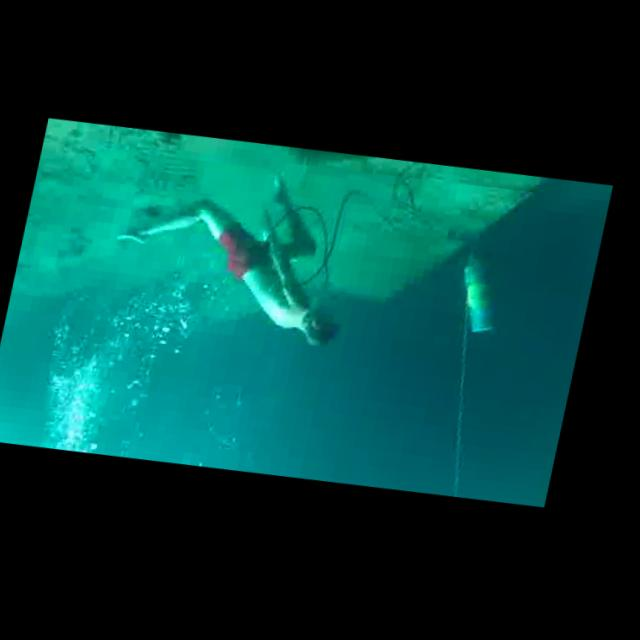human: (101, 141, 377, 361)
